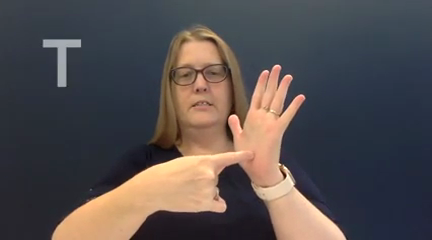T: (146, 62, 308, 215)
